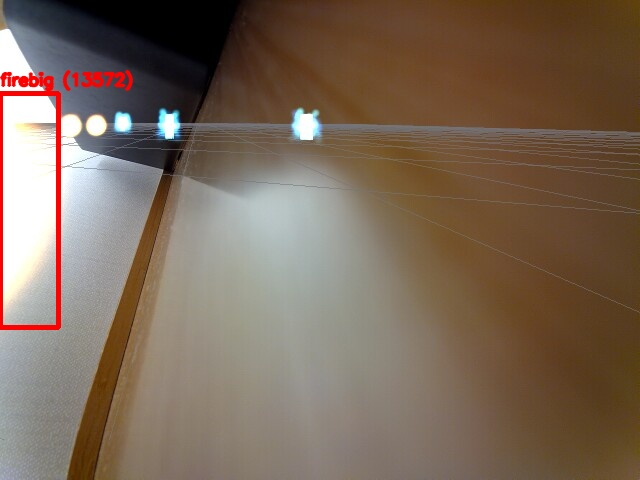firebig: (0, 93, 58, 327)
